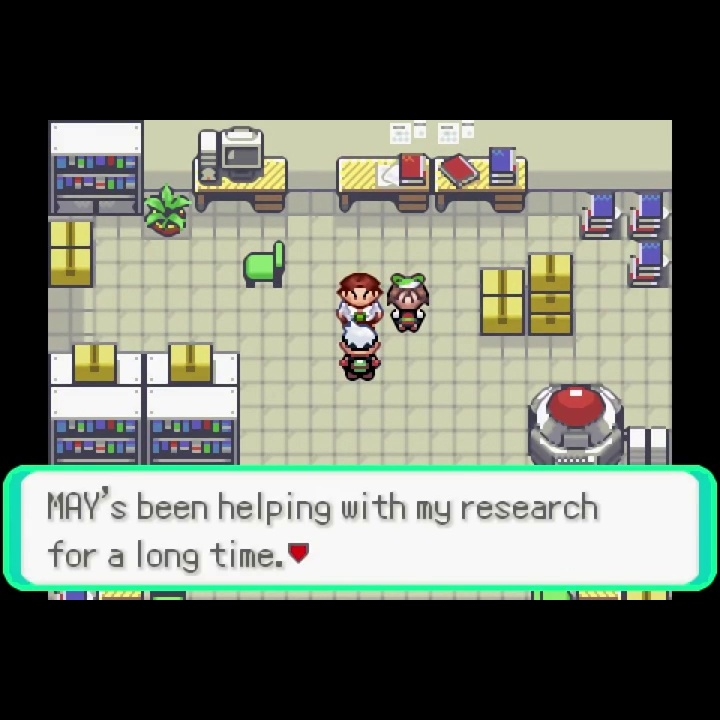npc: (330, 267, 386, 324), (335, 318, 384, 382), (385, 269, 431, 335)
